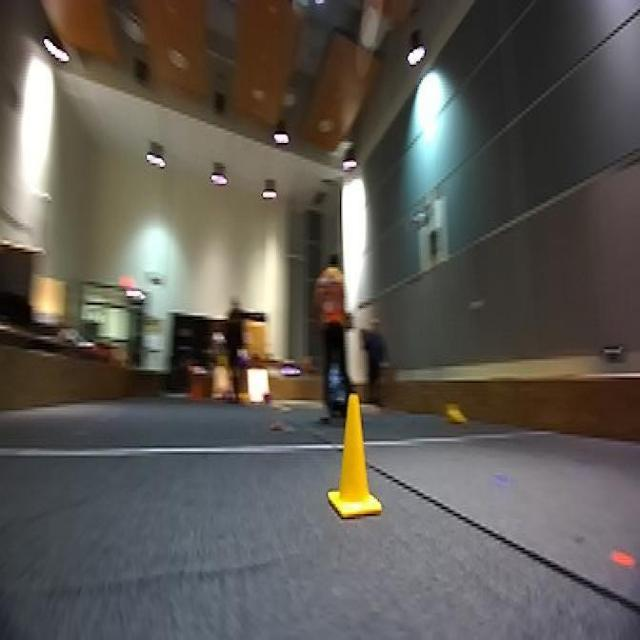frc_cone: (325, 393, 382, 523), (439, 398, 472, 429)
